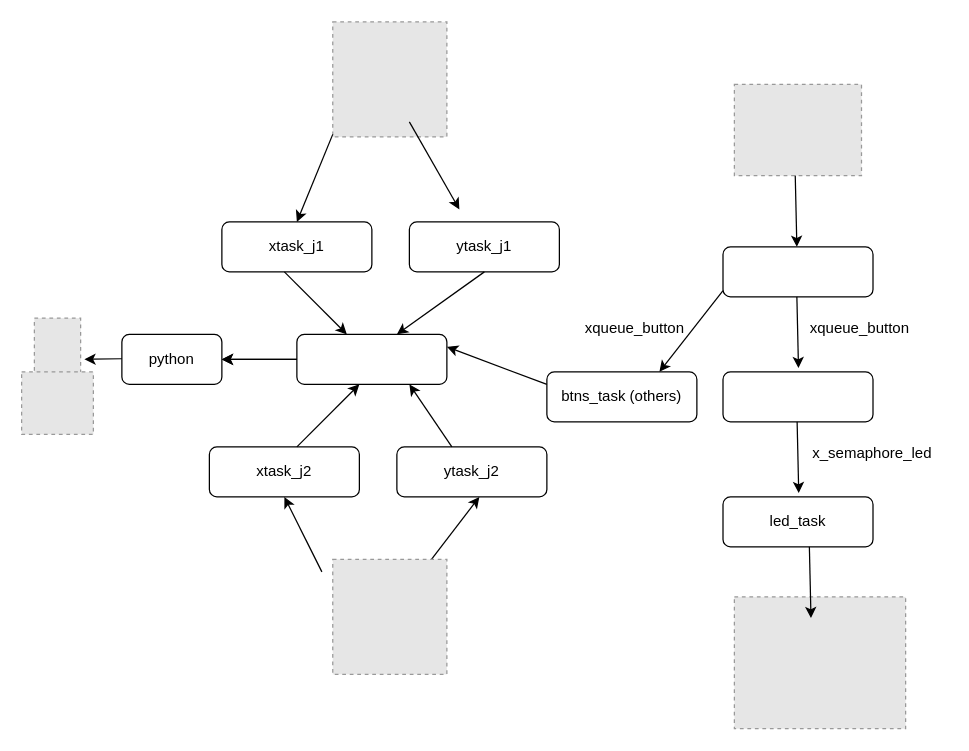
The diagram is 969 pixels wide and 751 high, and some of its shapes have lost their labels. Grey dashed boxes stand in for pictures. Each missing label, with the centre of its shape:
"btn1_task (led)" belongs at [797,396].
"btn_callback" belongs at [797,271].
"uart _task" belongs at [371,358].
